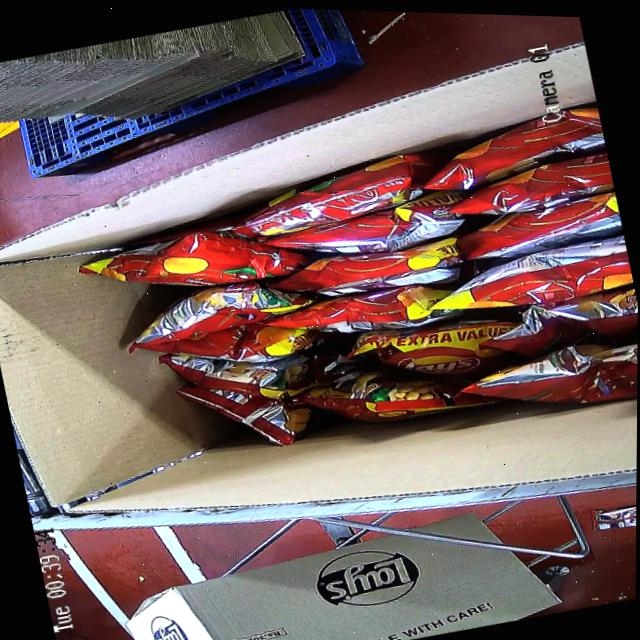MASALA: (62, 86, 639, 504)
